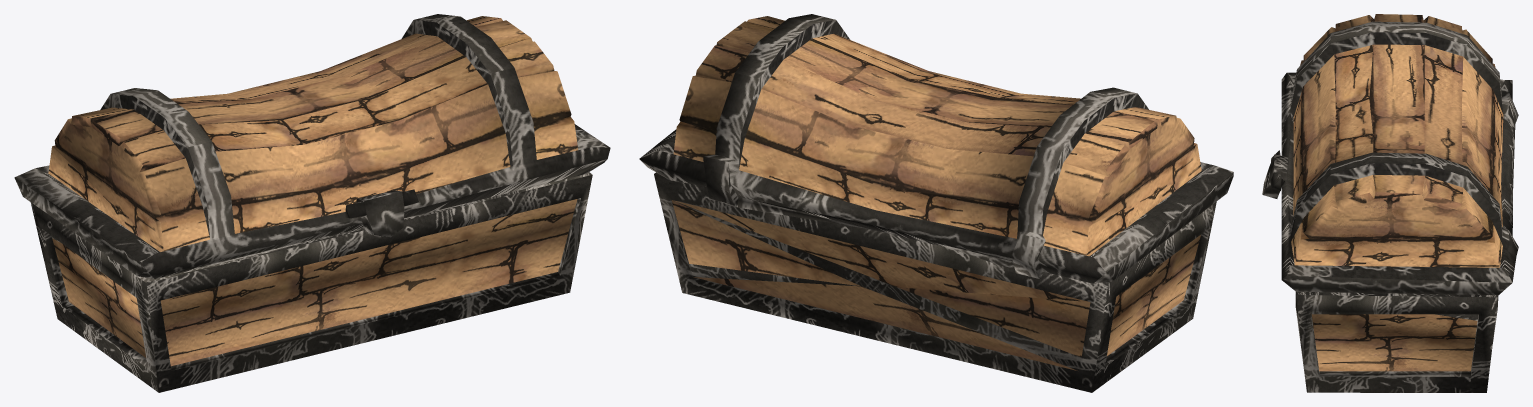
Rendered from Chest.glb.
3 views of the same model, side by side, from view 1: azimuth 30°, elevation 25°; view 2: azimuth 150°, elevation 25°; view 3: azimuth 270°, elevation 25° (orthographic). The views are drawn at different scales.
Parts seen in each view (by area): view 1: Chest Top.001, Chest Body; view 2: Chest Top.001, Chest Body; view 3: Chest Top.001, Chest Body.
Part boxes in pixels (<box>): Chest Top.001: <box>14,14,610,278</box>; Chest Body: <box>30,172,592,392</box>; Chest Top.001: <box>639,14,1233,283</box>; Chest Body: <box>654,172,1216,392</box>; Chest Top.001: <box>1262,14,1518,295</box>; Chest Body: <box>1295,291,1498,392</box>.
Size of the model in its own units: 1.23 by 0.5965 by 0.6554.
Materials: 2 (2 with a texture image).
